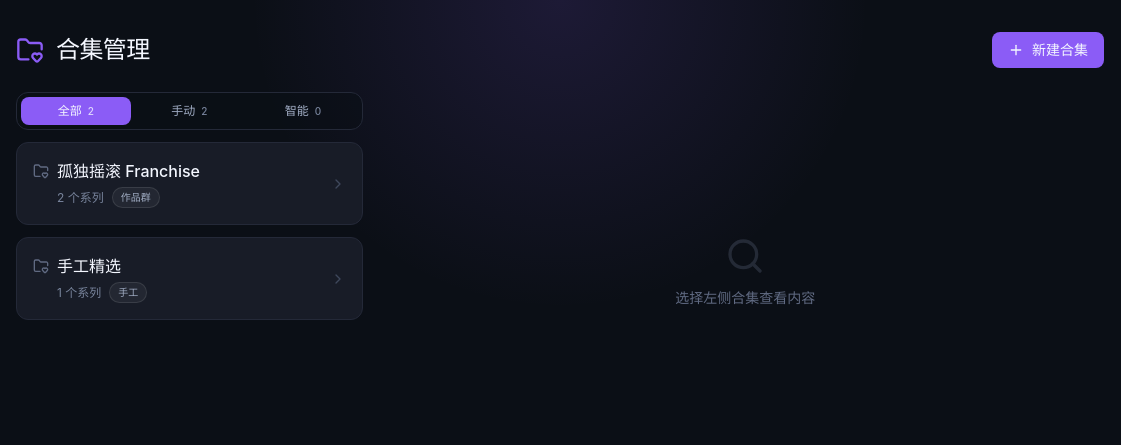
合集页上的作品群 › 作品群仍然列得出、进得去、看得到成员
The width and height of the screenshot is (1121, 445).
Step 1. Click the text "孤独摇滚 Franchise" → (128, 171), box [57, 159, 200, 183]
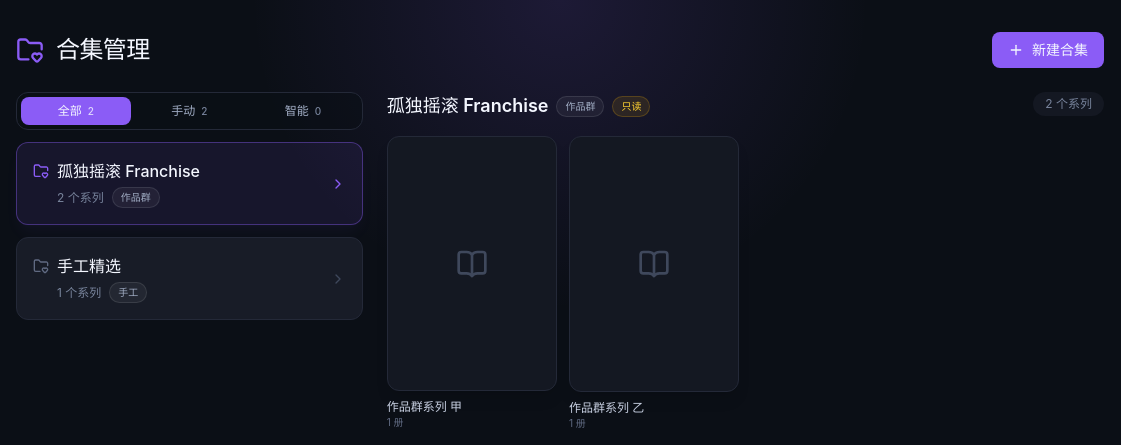
Expected: the text "作品群系列 甲" is shown, [387, 400, 462, 414]
Expected: the text "作品群系列 乙" is shown, [569, 400, 644, 414]
Expected: the text "只读" is shown, [612, 96, 650, 116]
